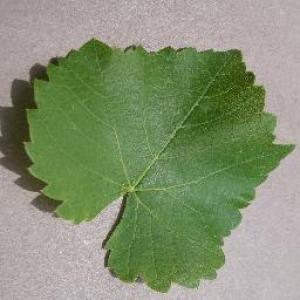Folha: (22, 38, 297, 293)
